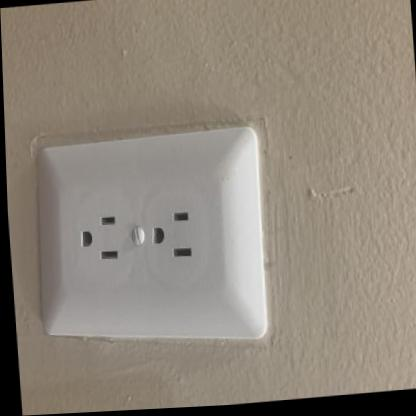OUTLET: (28, 117, 273, 359)
